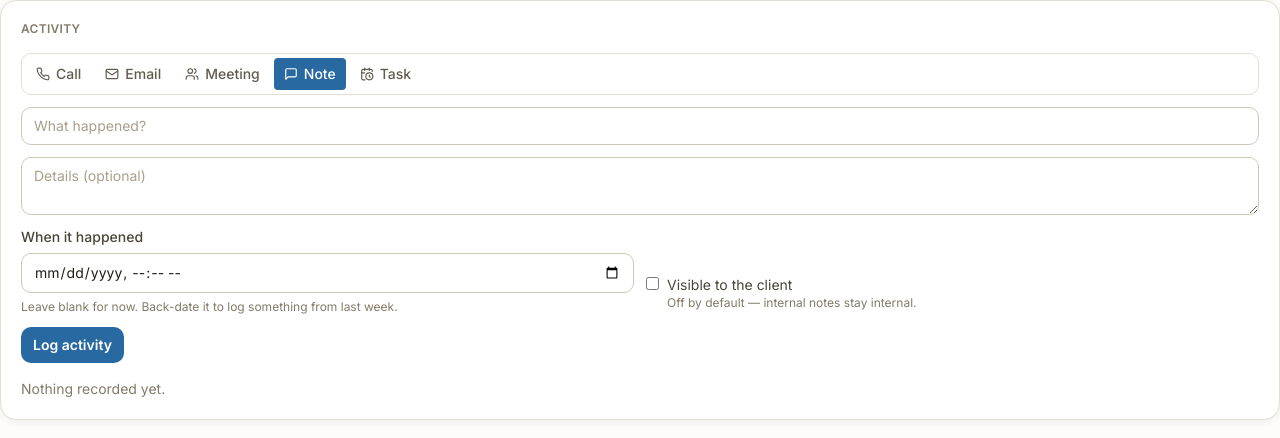
Test: the composer › swaps to a due date when the type is Task
Click the radio button labelled "Task": click(385, 74) [350,58,421,90]
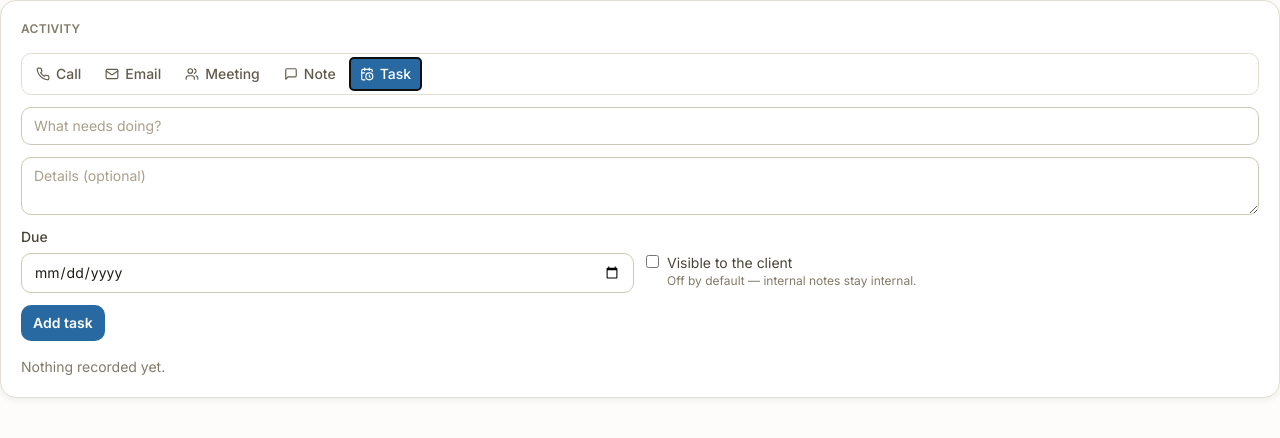
expect the text "Due" is shown: met, box [21,228,48,245]
expect the text "When it happened" is gone: met
expect the button "Add task" is shown: met, box [21,305,105,341]
